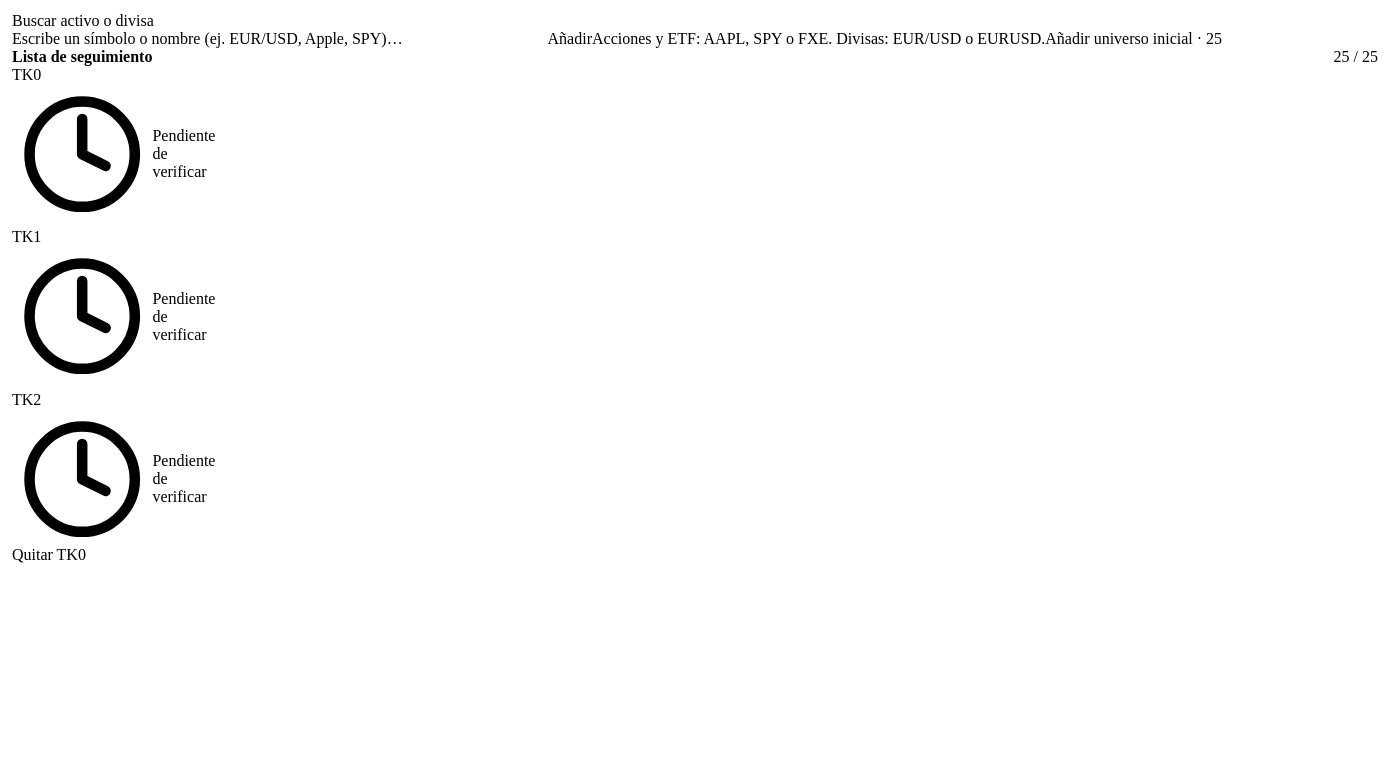
Test: Watchlist › rechaza altas cuando se ha alcanzado el límite de 25 activos
The width and height of the screenshot is (1390, 780).
Type "AAPL" into the field labelled "Buscar activo o divisa" at (280, 39), box [12, 30, 548, 48]
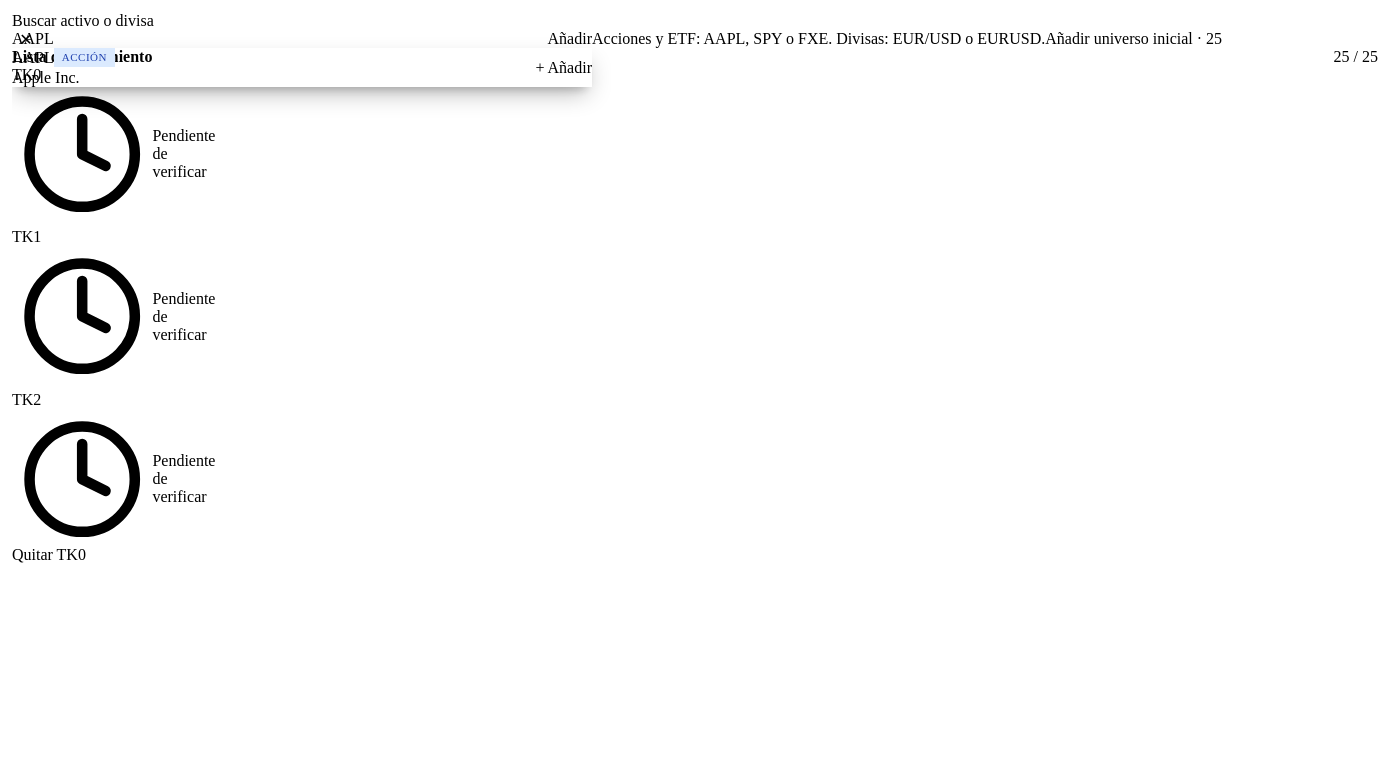
Click the button "Añadir" at (570, 39), box [548, 30, 592, 48]
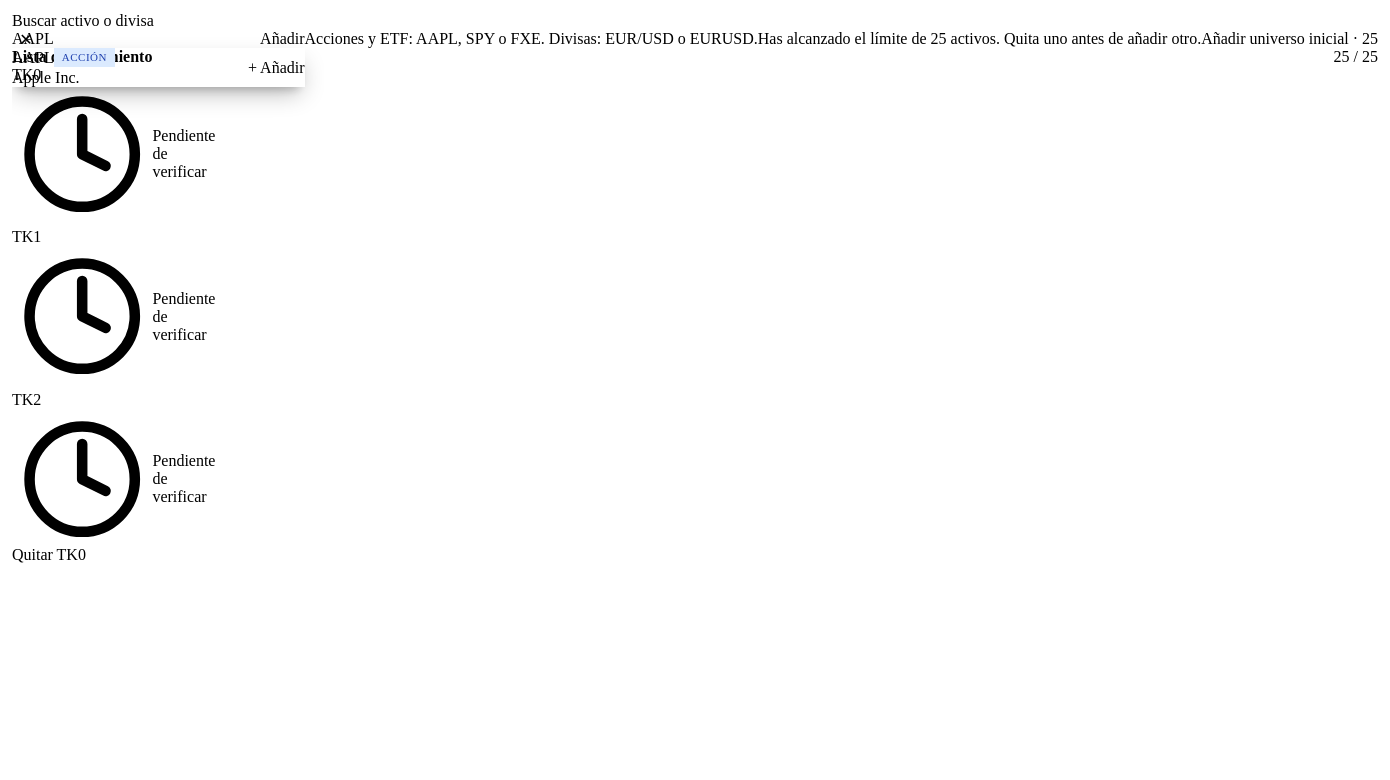
Now the message shows "límite de 25", box [758, 30, 1201, 47]
